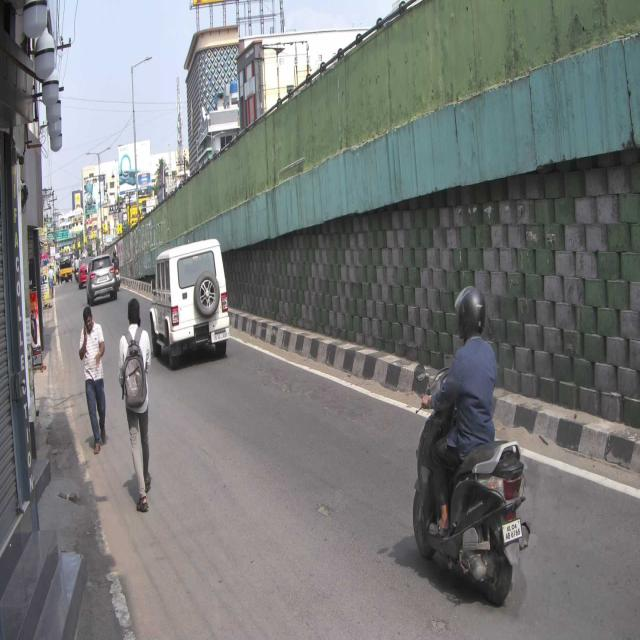single_rider: (413, 281, 532, 606)
